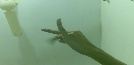hand: (39, 18, 94, 58)
